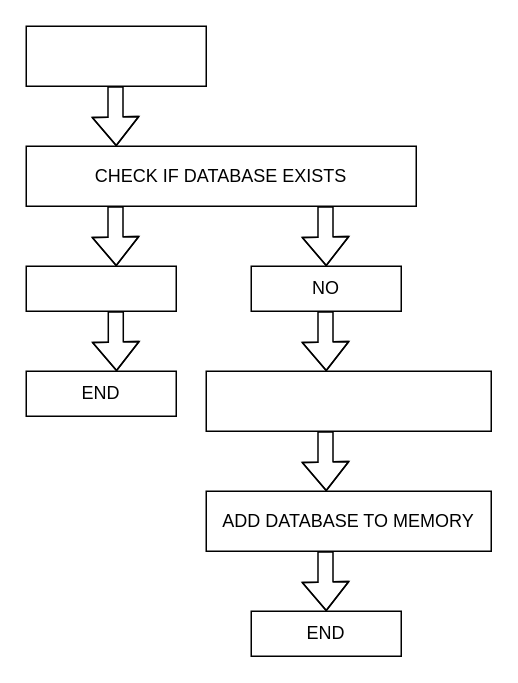
The diagram is 518 pixels wide and 683 high, and some of its shapes have lost their labels. The centre of each missing label's shape, as x and y in pixels:
CREATE DATABASE STRUCTURE: (348,400)
START: (115,55)
YES: (100,288)
